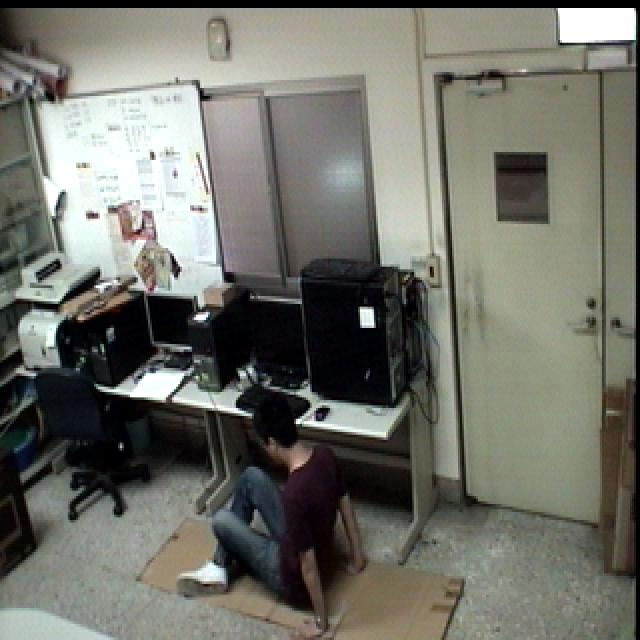sit: (171, 389, 375, 640)
